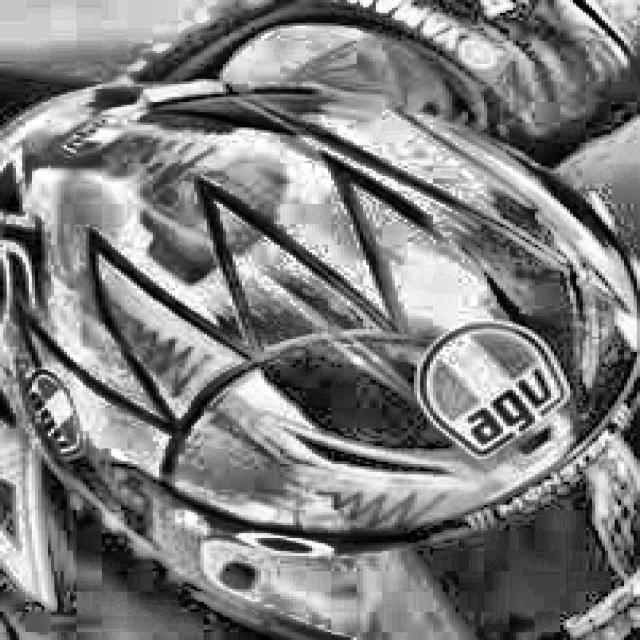Helmet: (0, 75, 640, 640)
